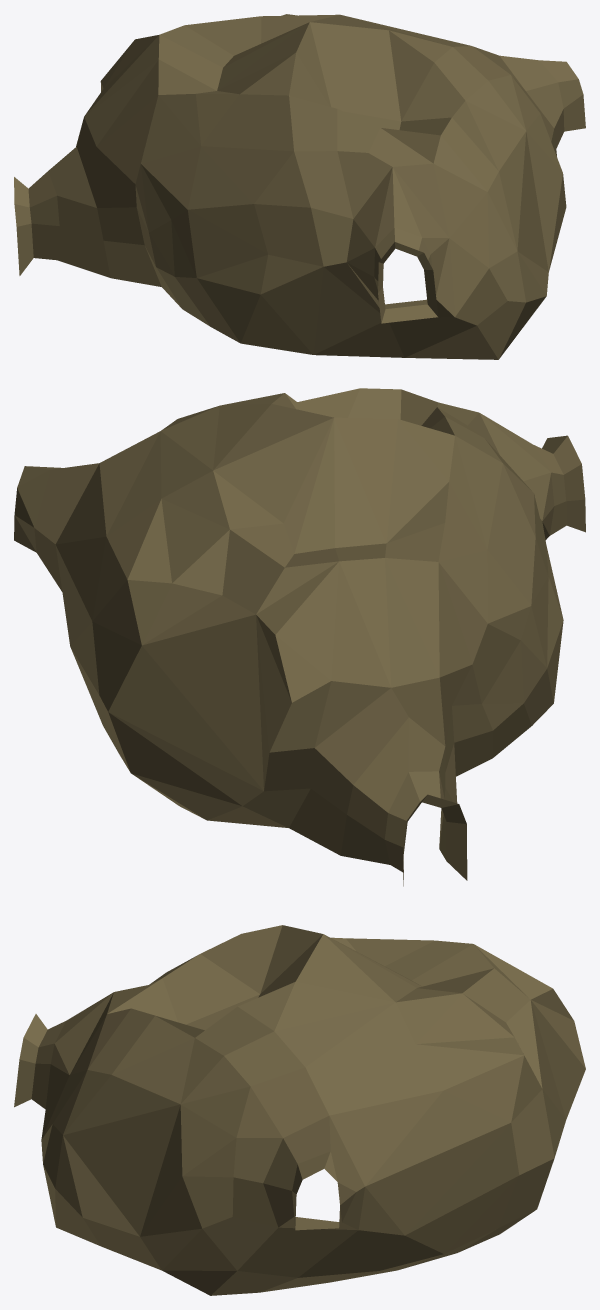
File: Dome-3exits-02.fbx
3 views of the same model, one above another, from view 1: azimuth 30°, elevation 25°; view 2: azimuth 150°, elevation 25°; view 3: azimuth 270°, elevation 25° (orthographic). The views are drawn at different scales.
Visible parts, largest first — view 1: Dome-3exits-02; view 2: Dome-3exits-02; view 3: Dome-3exits-02.
Part boxes in pixels (<box>): Dome-3exits-02: <box>14,14,585,359</box>; Dome-3exits-02: <box>14,388,585,886</box>; Dome-3exits-02: <box>14,925,585,1295</box>.
Bounding box in the file's own units: 2309 × 2225 × 1257.
